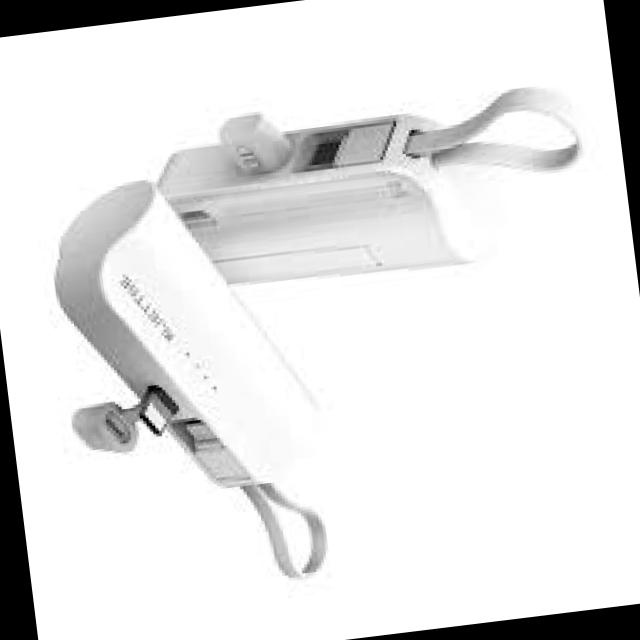portable-charger: (32, 156, 330, 514), (142, 84, 496, 306)
